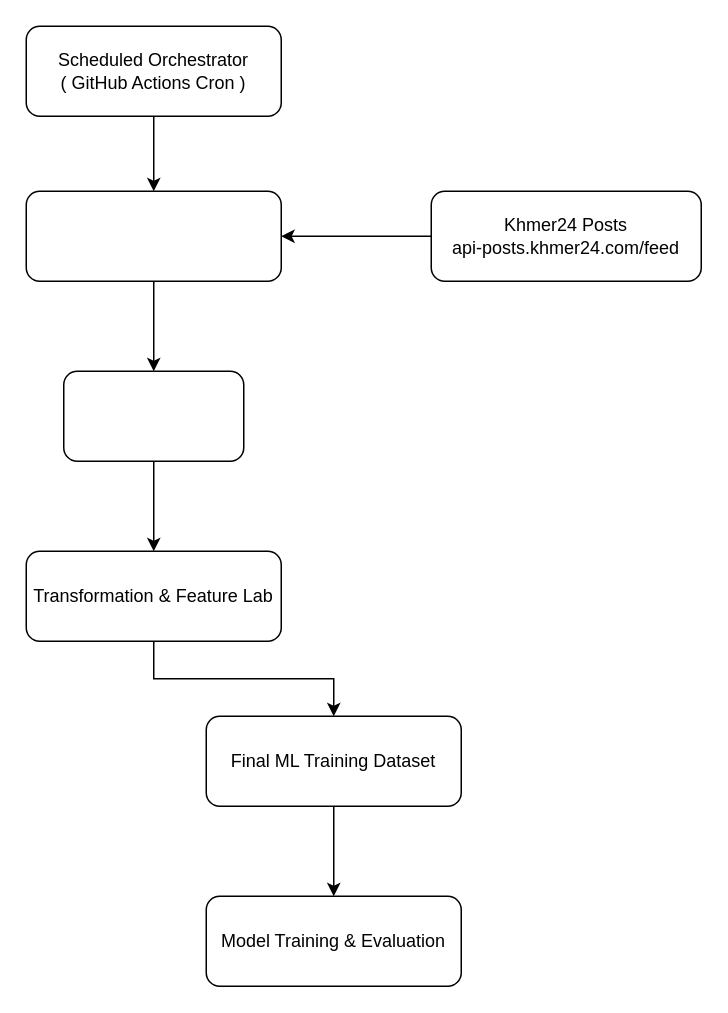
Some shapes in this 728 by 1013 pixel diagram are drawn without their labels. Each missing label, with the centre of its shape:
"Ingestion & Scraper Engine ( Python httpx + Pydantic v2 )" goes at [153,235].
"Sttorage ( Raw Parquet files )" goes at [153,415].
